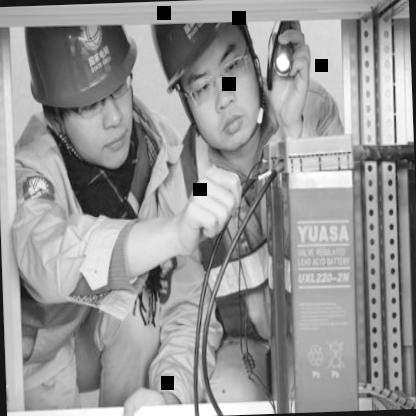helmet: (20, 10, 156, 183), (158, 10, 288, 164)
